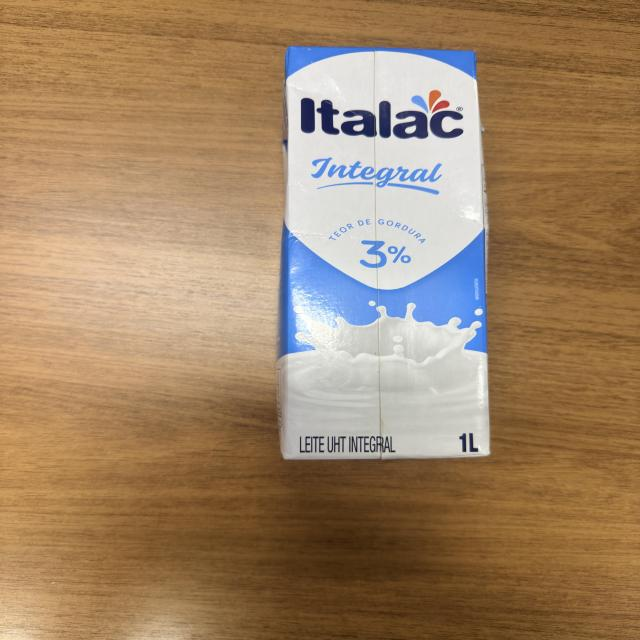Caixa de Leite: (276, 48, 492, 461)
